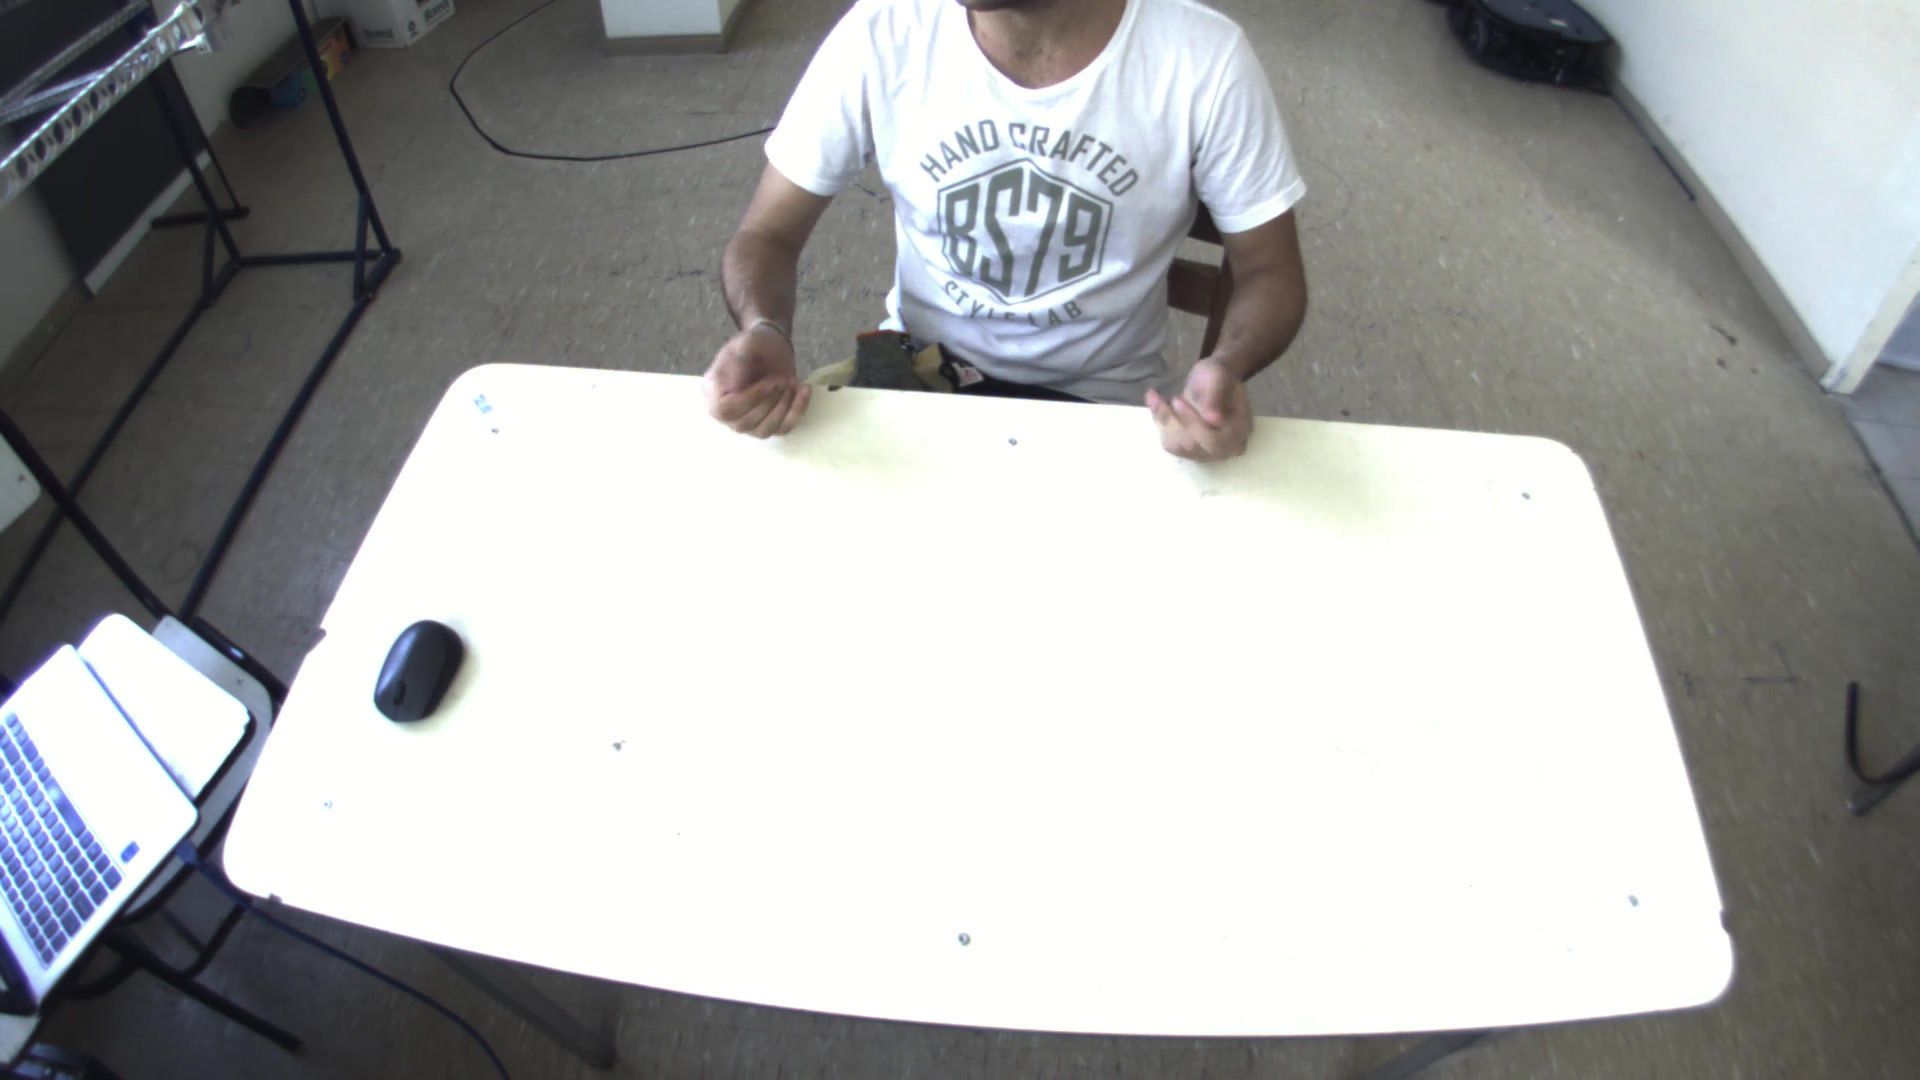hand: (687, 310, 837, 442), (1139, 353, 1271, 467)
